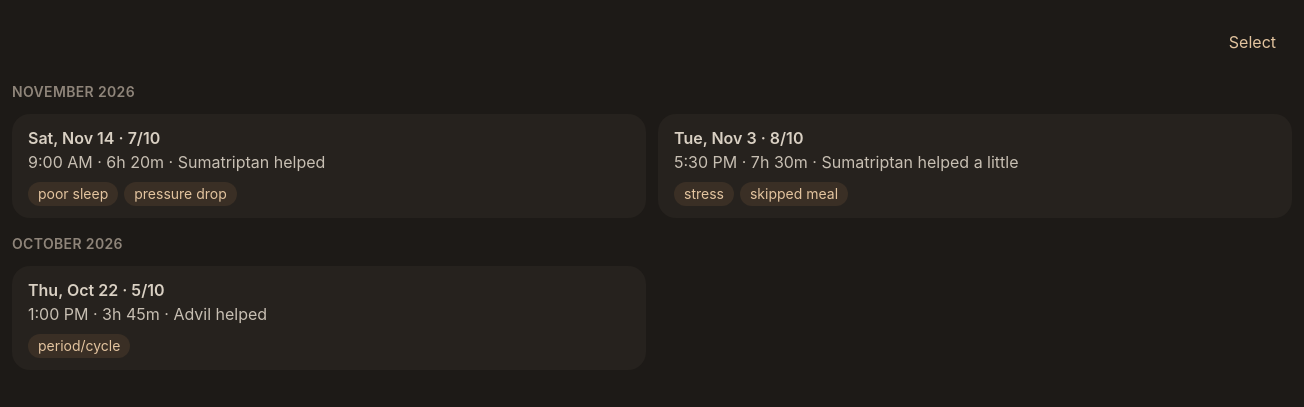
Test: Cancel leaves select mode
Click the button "Select" at (1252, 42), box [1213,18,1292,66]
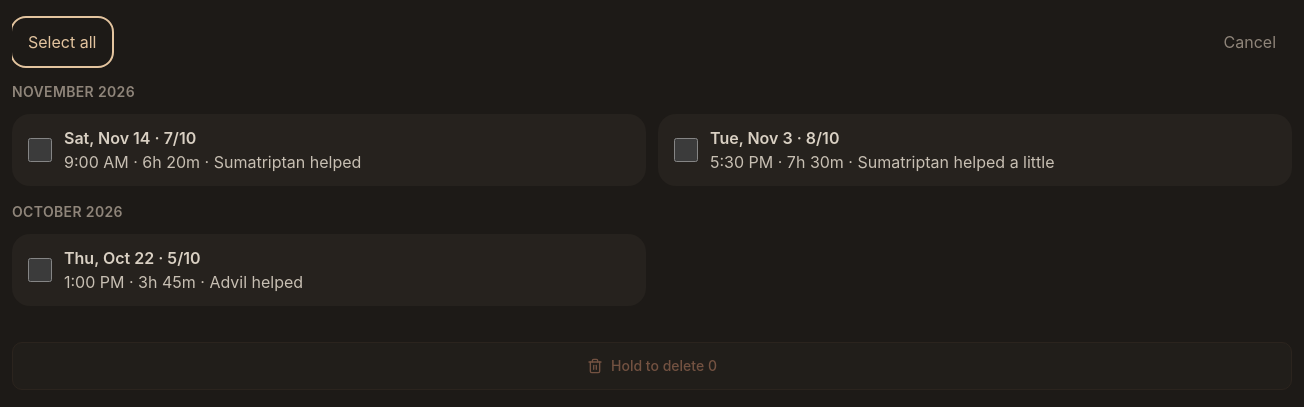
Click the button "Cancel" at (1250, 42), box [1208,18,1292,66]
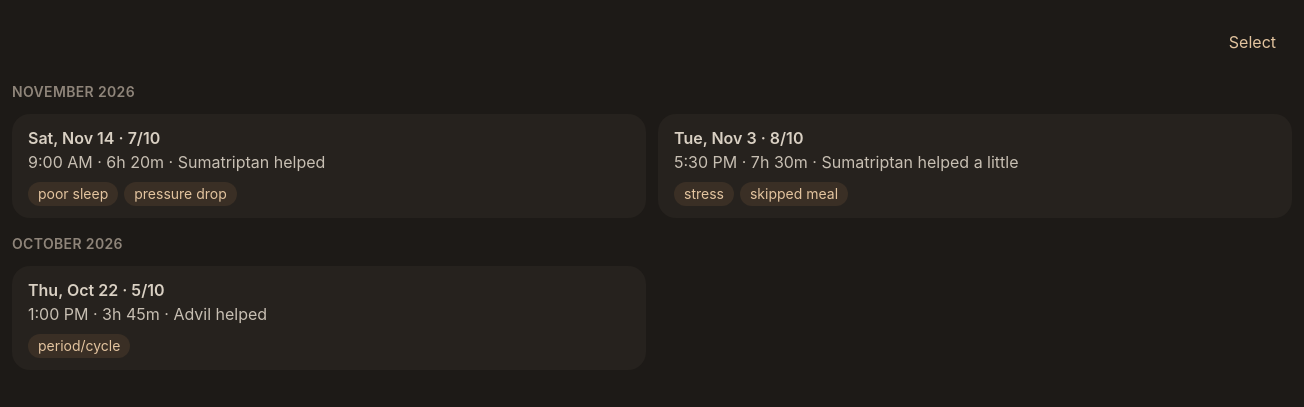
Check: the link "Sat, Nov 14" is shown, box [12,114,646,218]
Check: the checkbox is gone
